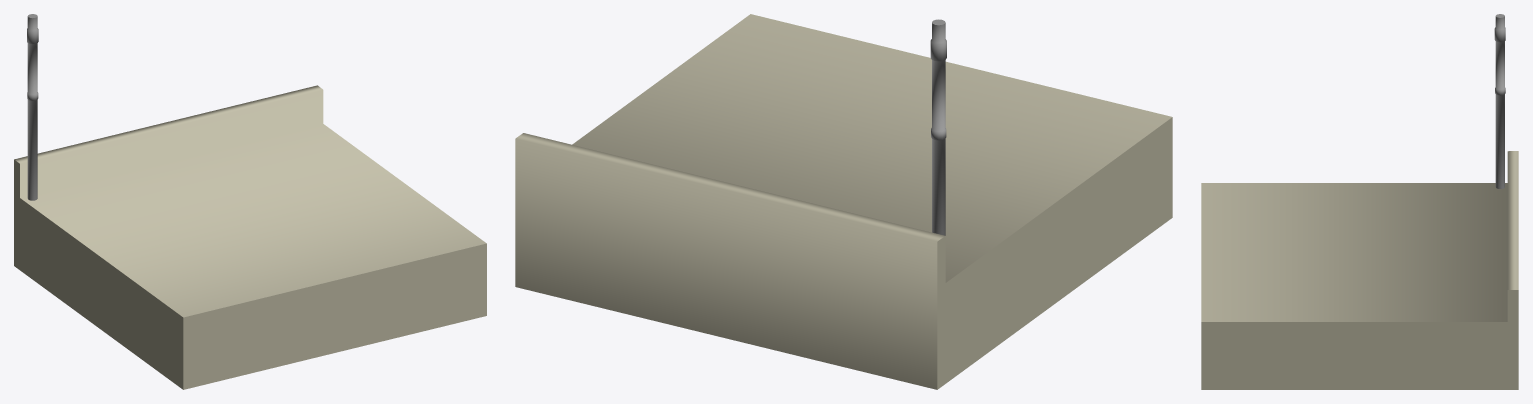
File: kouka.fbx
3 views of the same model, side by side, from view 1: azimuth 30°, elevation 25°; view 2: azimuth 150°, elevation 25°; view 3: azimuth 270°, elevation 25° (orthographic). The views are drawn at different scales.
Parts seen in each view (by area): view 1: Plane001, Line001; view 2: Plane001, Line001; view 3: Plane001, Line001.
Boxes of the visible parts, bbox=[...] form: Plane001: bbox=[14, 85, 486, 389]; Line001: bbox=[27, 14, 38, 200]; Plane001: bbox=[515, 14, 1172, 389]; Line001: bbox=[930, 19, 946, 235]; Plane001: bbox=[1201, 151, 1518, 389]; Line001: bbox=[1494, 14, 1505, 188].
Size of the model in its own units: 25.78 by 20.7 by 24.9.
